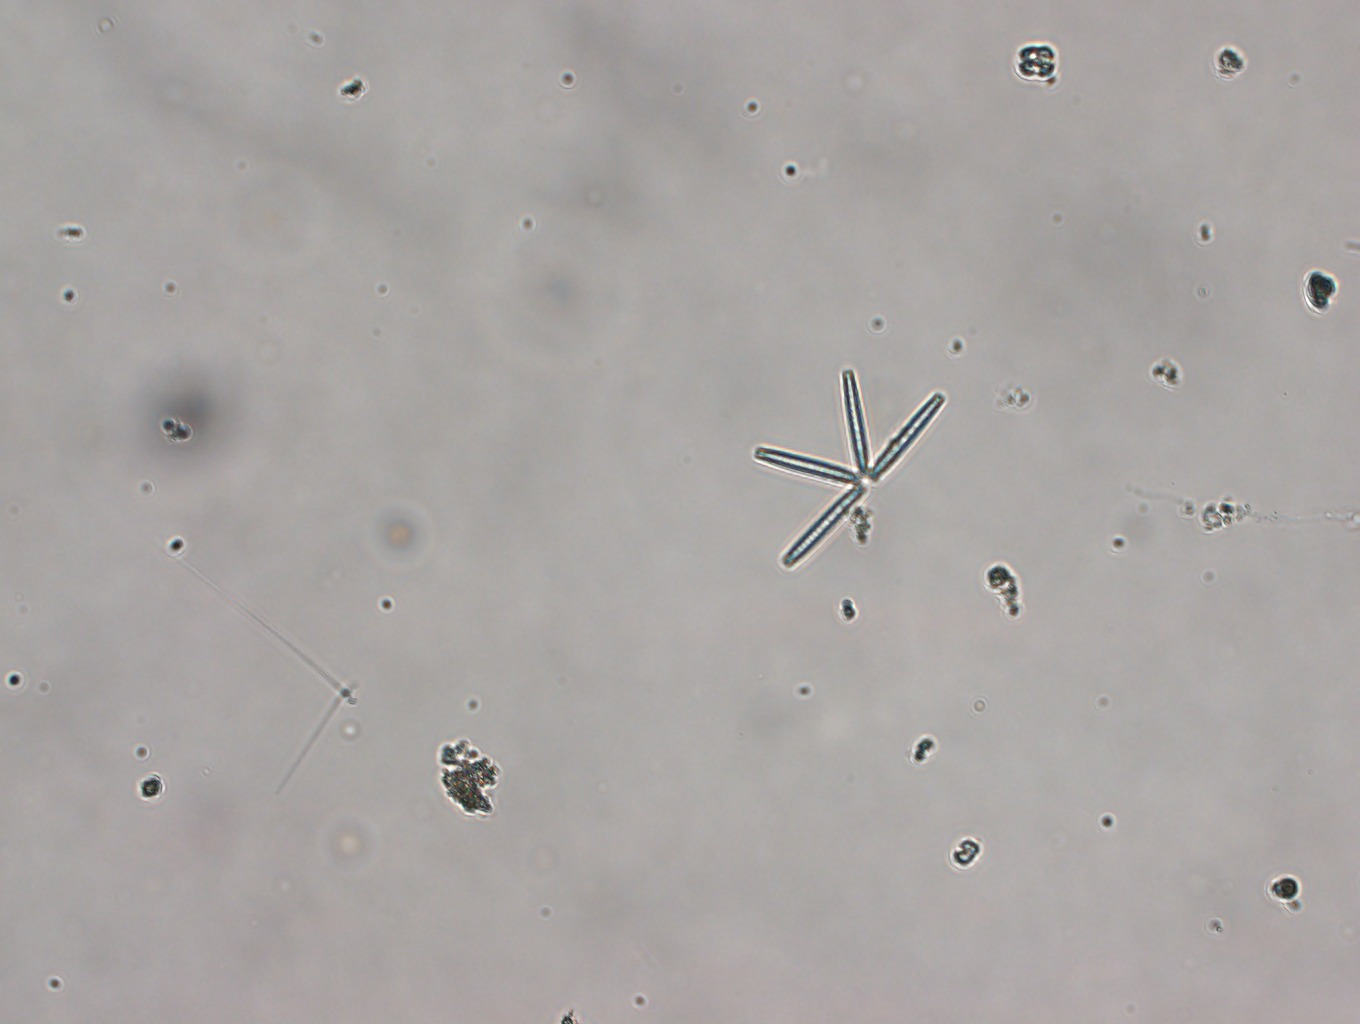thalassionema nitzschioides: (746, 364, 947, 573)
